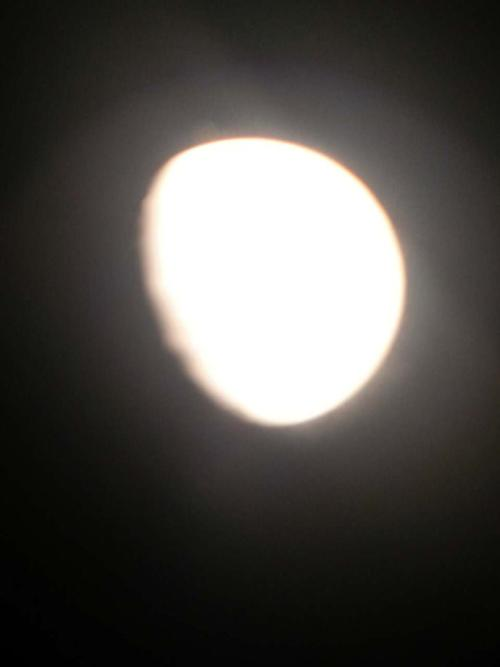moon: (137, 136, 407, 428)
